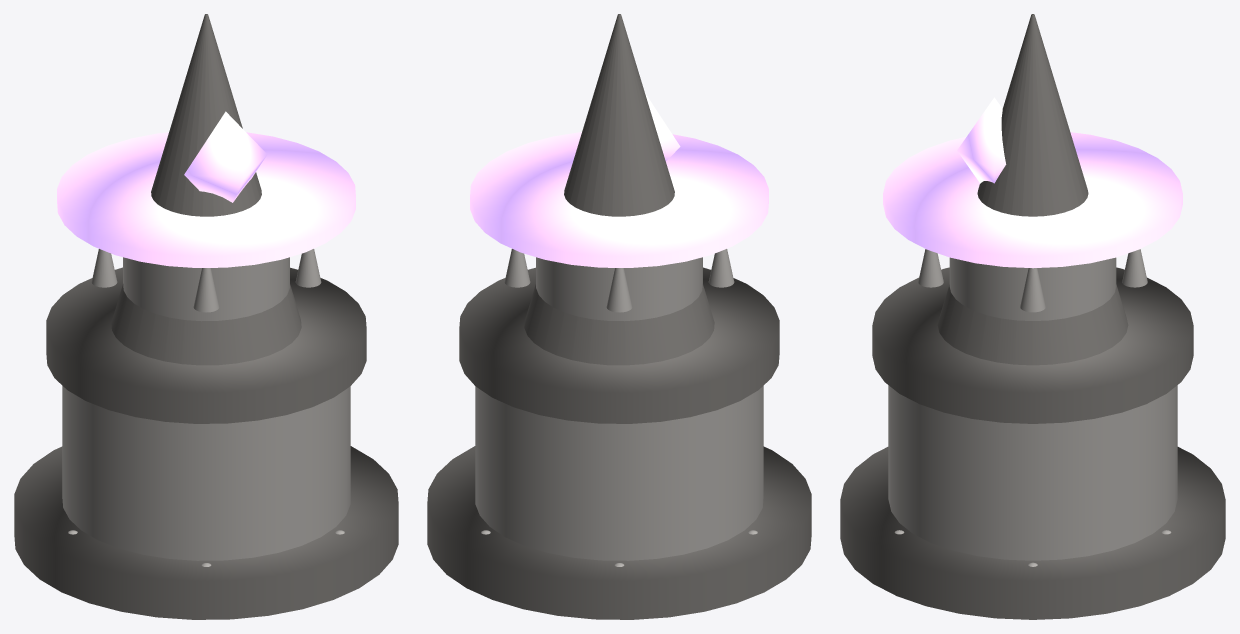
File: void_l2.glb
3 views of the same model, side by side, from view 1: azimuth 30°, elevation 25°; view 2: azimuth 150°, elevation 25°; view 3: azimuth 270°, elevation 25° (orthographic).
Visible parts, largest first — view 1: base, footing, baseCollar, spinRing, obelisk, shaft, spinCrystal, VoidLowerShard2, VoidLowerShard3, VoidLowerShard1; view 2: base, footing, baseCollar, spinRing, obelisk, shaft, VoidLowerShard4, VoidLowerShard3, VoidLowerShard5, spinCrystal; view 3: base, footing, baseCollar, spinRing, obelisk, shaft, spinCrystal, VoidLowerShard0, VoidLowerShard1, VoidLowerShard5.
Part boxes in pixels (box(x1,y1,x2,y2)): base: box(62, 386, 350, 560); footing: box(14, 446, 398, 619); baseCollar: box(46, 267, 366, 423); spinRing: box(57, 132, 355, 267); obelisk: box(111, 14, 301, 365); shaft: box(123, 257, 289, 321); spinCrystal: box(184, 111, 267, 202); VoidLowerShard2: box(193, 268, 219, 312); VoidLowerShard3: box(91, 249, 117, 287); VoidLowerShard1: box(295, 249, 321, 287); base: box(475, 386, 763, 560); footing: box(427, 446, 811, 619); baseCollar: box(459, 267, 779, 423); spinRing: box(470, 132, 768, 267); obelisk: box(524, 14, 714, 365); shaft: box(536, 257, 702, 321); VoidLowerShard4: box(606, 268, 632, 312); VoidLowerShard3: box(708, 249, 734, 287); VoidLowerShard5: box(504, 249, 530, 287); spinCrystal: box(645, 93, 680, 161); base: box(888, 385, 1177, 560); footing: box(840, 447, 1225, 619); baseCollar: box(872, 267, 1193, 423); spinRing: box(883, 132, 1182, 268); obelisk: box(937, 14, 1128, 365); shaft: box(949, 257, 1116, 320); spinCrystal: box(957, 97, 1006, 183); VoidLowerShard0: box(1020, 268, 1045, 312); VoidLowerShard1: box(918, 249, 943, 287); VoidLowerShard5: box(1122, 249, 1147, 287).
Bounding box in the file's own units: 1.8 × 2.7 × 1.8.
